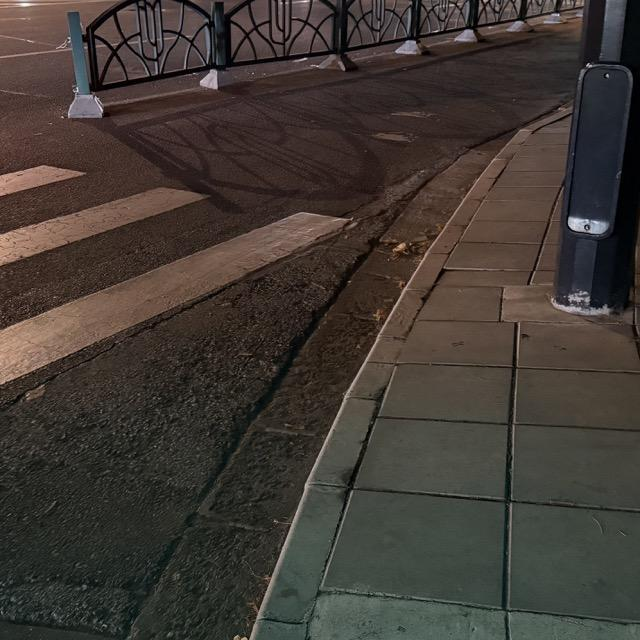curb: (250, 113, 556, 639)
